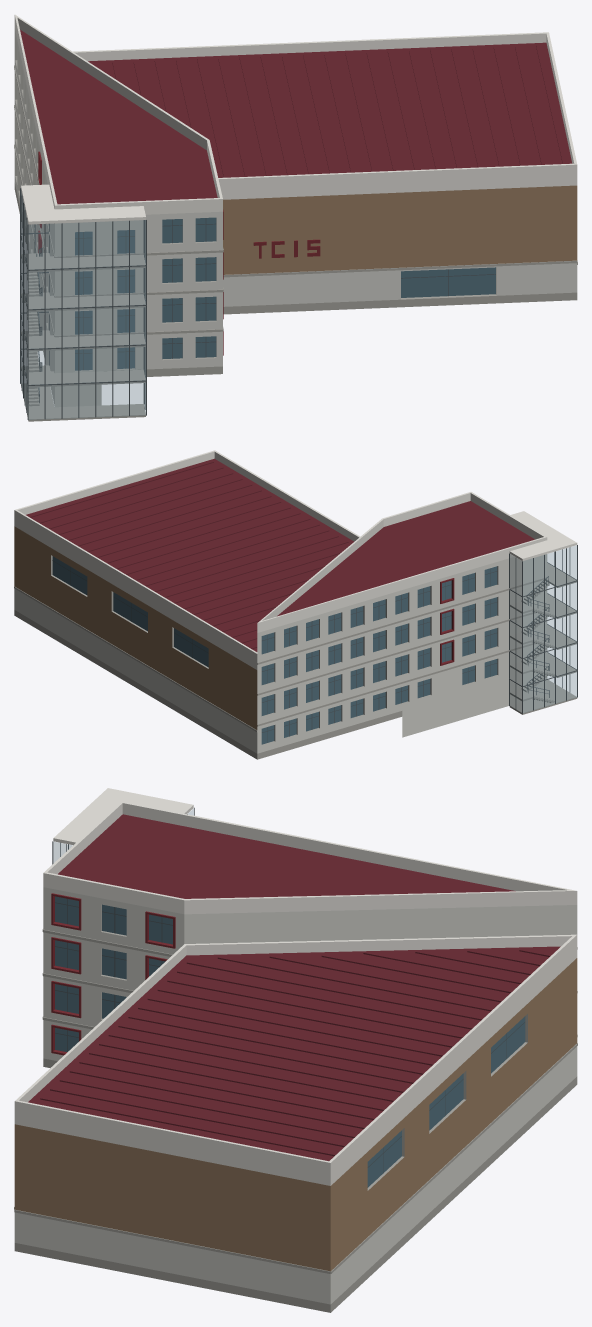
3 views of the same model, one above another, from view 1: azimuth 30°, elevation 25°; view 2: azimuth 150°, elevation 25°; view 3: azimuth 270°, elevation 25° (orthographic). The views are drawn at different scales.
Visible parts, largest first — view 1: athletics__roof-metal-maroon, athletics__wall-plaster-tile, athletics__brick, athletics__glass-clear, athletics__parapet-concrete, athletics__base-stone, athletics__glass, athletics__frame, athletics__trim-maroon; view 2: athletics__roof-metal-maroon, athletics__wall-plaster-tile, athletics__parapet-concrete, athletics__brick, athletics__glass, athletics__base-stone, athletics__glass-clear, athletics__frame, athletics__trim-maroon; view 3: athletics__roof-metal-maroon, athletics__brick, athletics__parapet-concrete, athletics__wall-plaster-tile, athletics__base-stone, athletics__glass, athletics__trim-maroon, athletics__frame.
Boxes of the visible parts, x1,y1,x2,y2 form: athletics__roof-metal-maroon: [20, 29, 572, 204]; athletics__wall-plaster-tile: [14, 28, 577, 407]; athletics__brick: [223, 185, 577, 274]; athletics__glass-clear: [21, 192, 145, 419]; athletics__parapet-concrete: [14, 14, 577, 224]; athletics__base-stone: [14, 37, 577, 421]; athletics__glass: [75, 217, 495, 370]; athletics__frame: [20, 188, 495, 420]; athletics__trim-maroon: [38, 151, 320, 355]; athletics__roof-metal-maroon: [26, 458, 534, 651]; athletics__wall-plaster-tile: [14, 554, 547, 753]; athletics__parapet-concrete: [14, 450, 577, 669]; athletics__brick: [14, 526, 257, 729]; athletics__glass: [52, 556, 497, 744]; athletics__base-stone: [14, 555, 577, 759]; athletics__glass-clear: [510, 545, 576, 713]; athletics__frame: [52, 545, 577, 742]; athletics__trim-maroon: [440, 578, 454, 665]; athletics__roof-metal-maroon: [28, 814, 560, 1161]; athletics__brick: [14, 958, 577, 1271]; athletics__parapet-concrete: [14, 788, 577, 1185]; athletics__wall-plaster-tile: [14, 887, 577, 1304]; athletics__base-stone: [14, 904, 577, 1312]; athletics__glass: [55, 896, 525, 1187]; athletics__trim-maroon: [51, 893, 175, 1055]; athletics__frame: [52, 807, 524, 1173].
Size of the model in its own units: 64.16 by 20.08 by 45.51.
